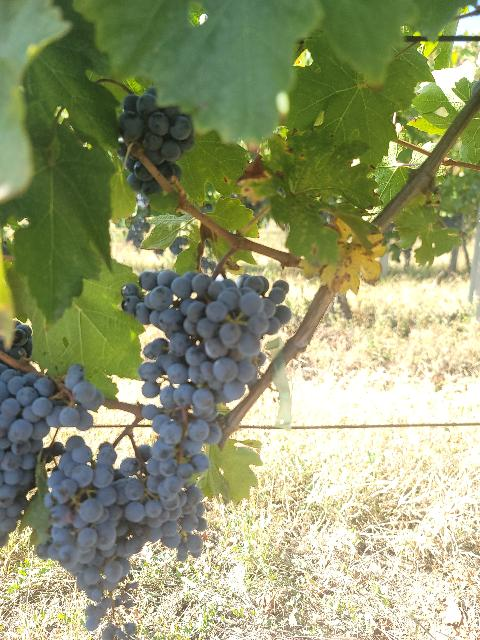grapes: (121, 270, 291, 514), (38, 436, 150, 631), (0, 361, 104, 545), (139, 439, 206, 561)
